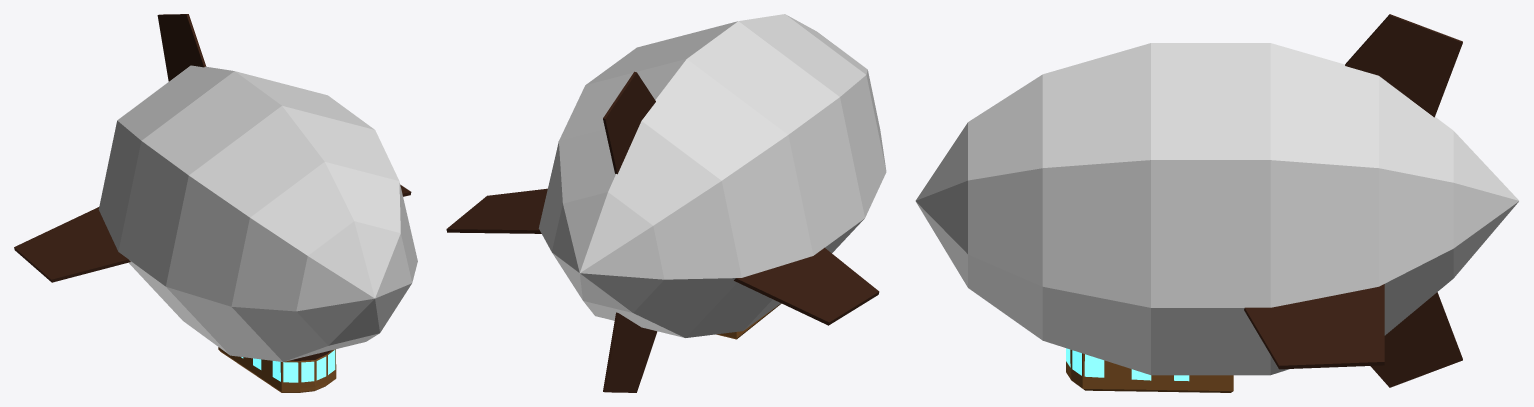
File: zeppelin.gltf
3 renders of one model, left to right at view 1: azimuth 30°, elevation 25°; view 2: azimuth 150°, elevation 25°; view 3: azimuth 270°, elevation 25°, orthographic. The views are drawn at different scales.
Parts seen in each view (by area): view 1: Balloon; view 2: Balloon; view 3: Balloon.
Boxes of the visible parts, x1,y1,x2,y2 form: Balloon: (14,14,417,392); Balloon: (446,14,886,392); Balloon: (915,14,1518,392).
Bounding box in the file's own units: 29.44 × 23 × 33.8.
